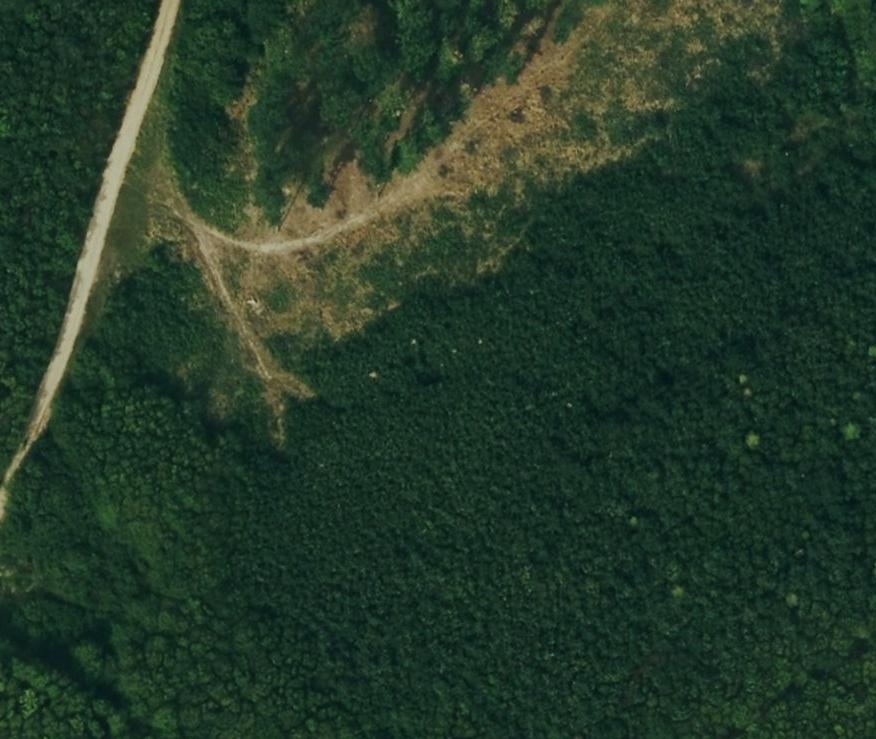field: (144, 2, 778, 437)
forest: (0, 2, 876, 737), (169, 3, 537, 227), (0, 3, 155, 470)
